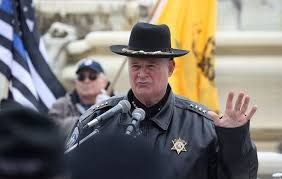uniform: (81, 95, 207, 172)
